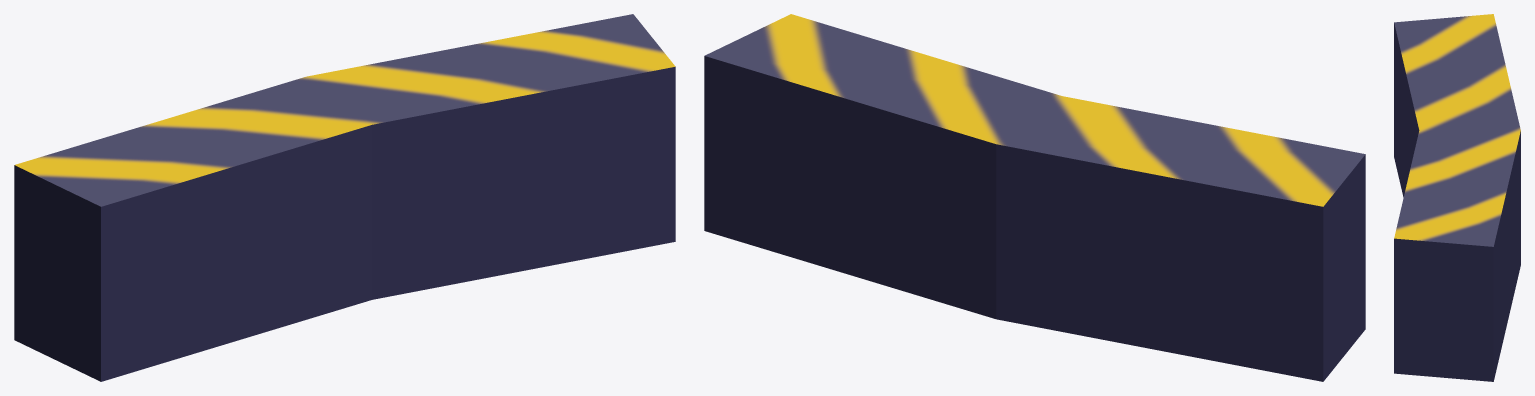
File: newyork_circular_barrier_tape_2.fbx
3 renders of one model, left to right at view 1: azimuth 30°, elevation 25°; view 2: azimuth 150°, elevation 25°; view 3: azimuth 270°, elevation 25°, orthographic. The views are drawn at different scales.
Visible parts, largest first — view 1: Cylinder.089; view 2: Cylinder.089; view 3: Cylinder.089.
Boxes of the visible parts, x1=… form: Cylinder.089: x1=14, y1=14, x2=675, y2=381; Cylinder.089: x1=704, y1=14, x2=1365, y2=381; Cylinder.089: x1=1394, y1=14, x2=1520, y2=381.
Size of the model in its own units: 740 by 200 by 170.
